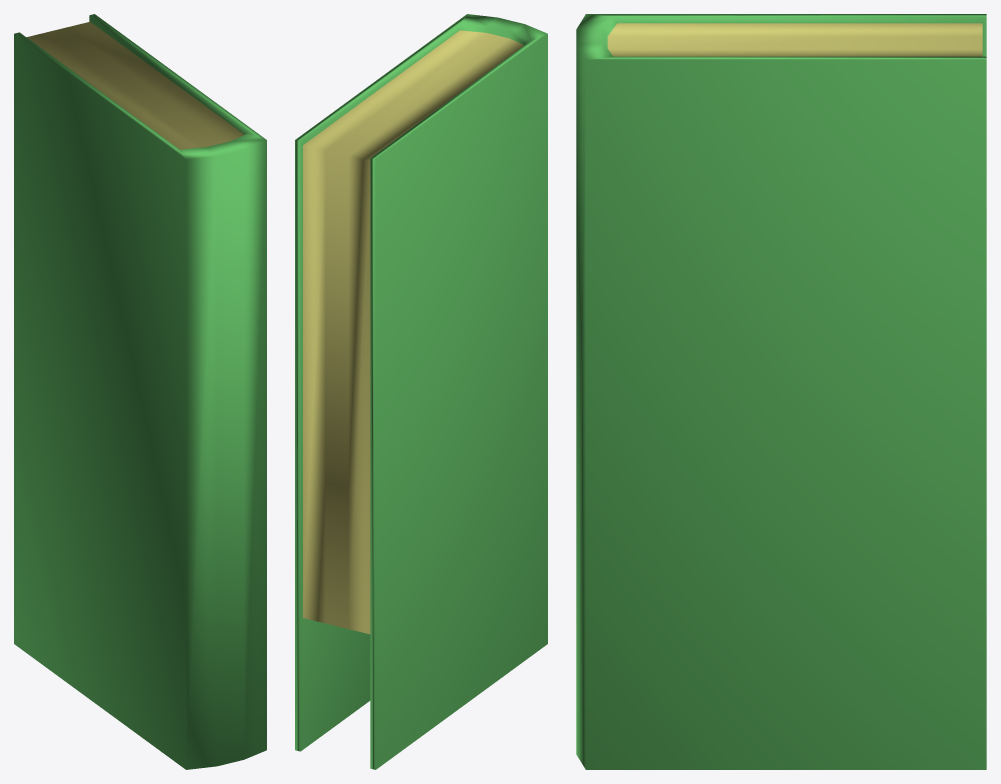
File: book_4.glb
The picture shows the model from 3 angles, left to right: view 1: azimuth 30°, elevation 25°; view 2: azimuth 150°, elevation 25°; view 3: azimuth 270°, elevation 25°; orthographic projection. The views are drawn at different scales.
Visible parts, largest first — view 1: book.004; view 2: book.004; view 3: book.004.
Part boxes in pixels (x1,y1,x2,y2): book.004: (14,14,266,769); book.004: (295,14,547,769); book.004: (576,14,986,769).
Bounding box in the file's own units: 0.0852 × 0.6157 × 0.3222.
